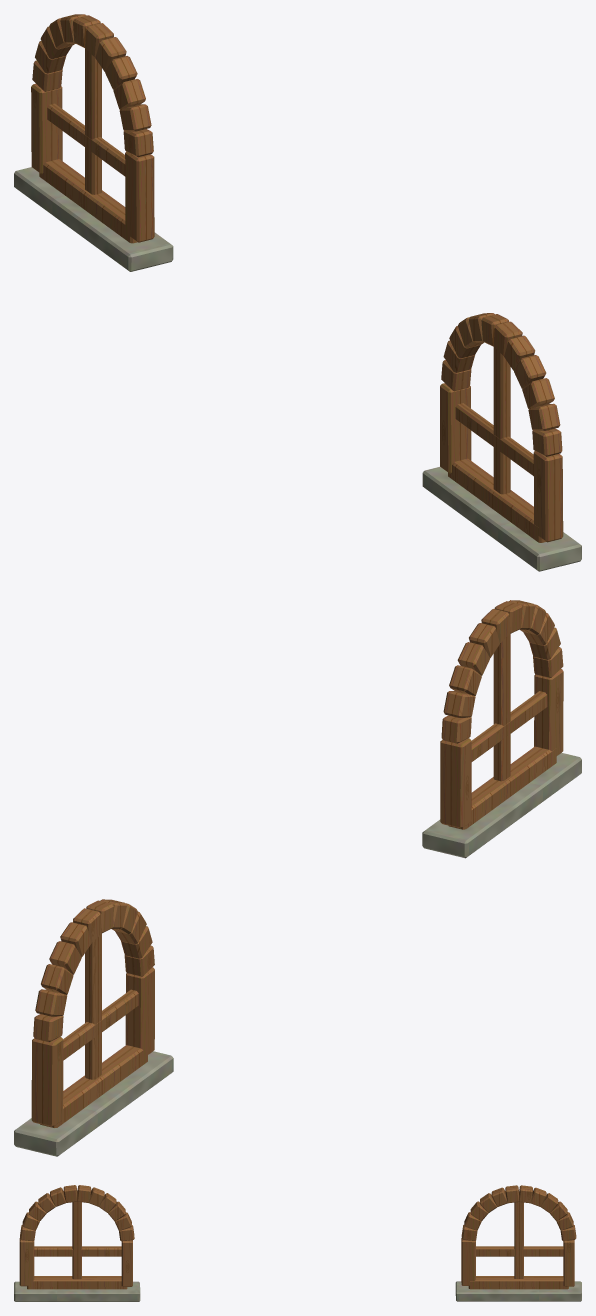
File: SM_HH_Q3_Windows_Front.fbx
3 views of the same model, one above another, from view 1: azimuth 30°, elevation 25°; view 2: azimuth 150°, elevation 25°; view 3: azimuth 270°, elevation 25° (orthographic). The views are drawn at different scales.
Visible parts, largest first — view 1: HH_Q3_Windows_Front; view 2: HH_Q3_Windows_Front; view 3: HH_Q3_Windows_Front.
Part boxes in pixels (<box>): HH_Q3_Windows_Front: <box>14,14,581,571</box>; HH_Q3_Windows_Front: <box>14,600,581,1156</box>; HH_Q3_Windows_Front: <box>14,1185,581,1301</box>.
Size of the model in its own units: 7.07 by 0.3507 by 1.51.
